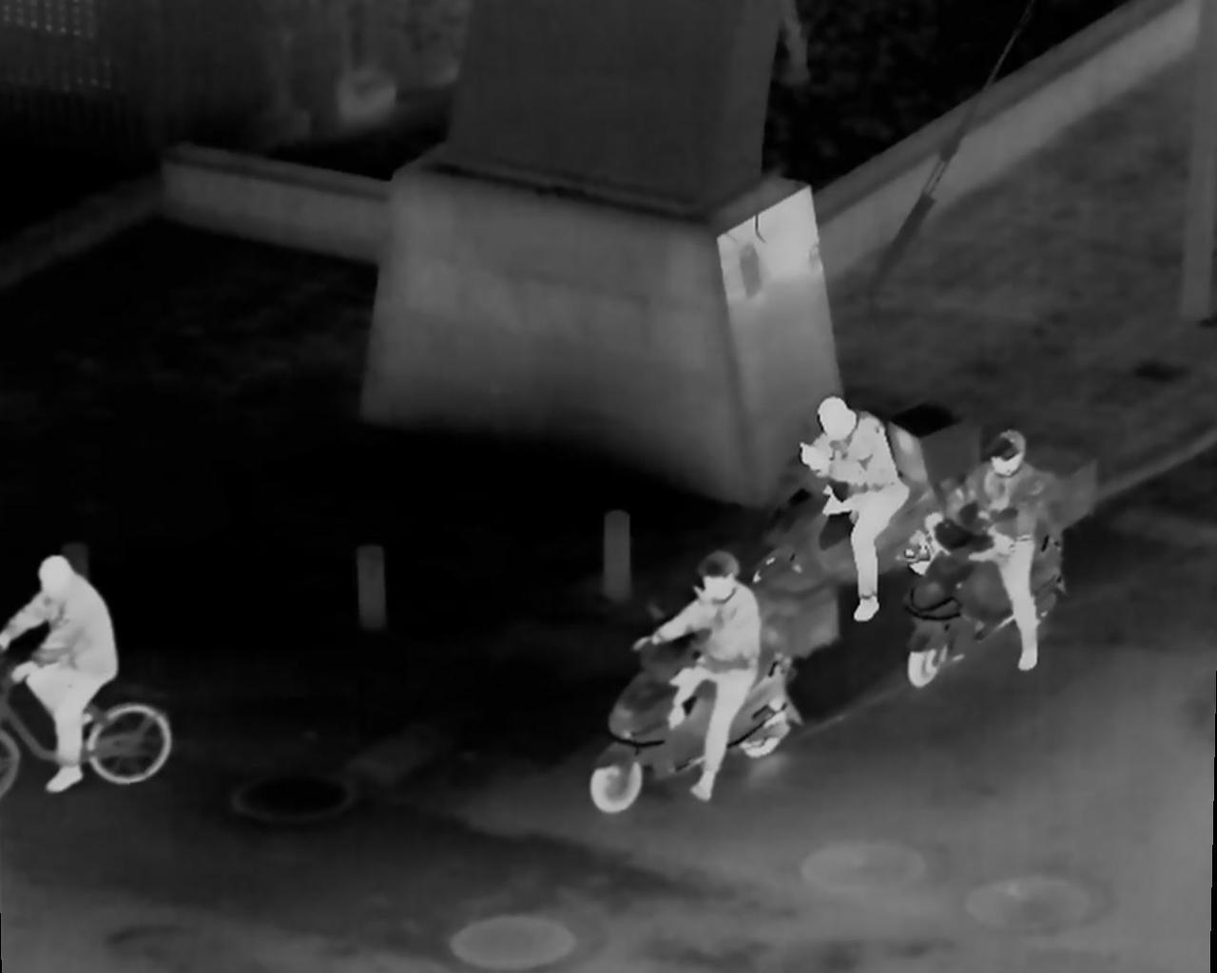person: (636, 545, 777, 823), (920, 435, 1062, 693), (802, 390, 939, 644), (10, 556, 125, 777)
